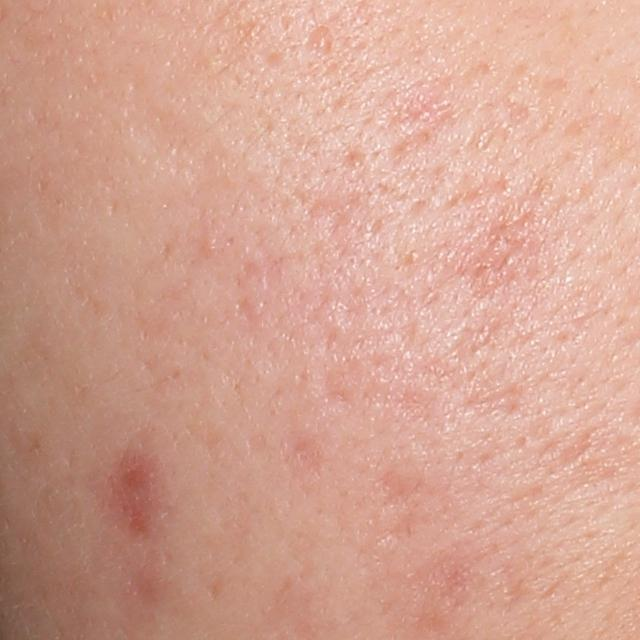atrophic_scar: (131, 105, 219, 188), (373, 509, 422, 551), (301, 19, 340, 70), (375, 473, 417, 512), (340, 148, 367, 172)
